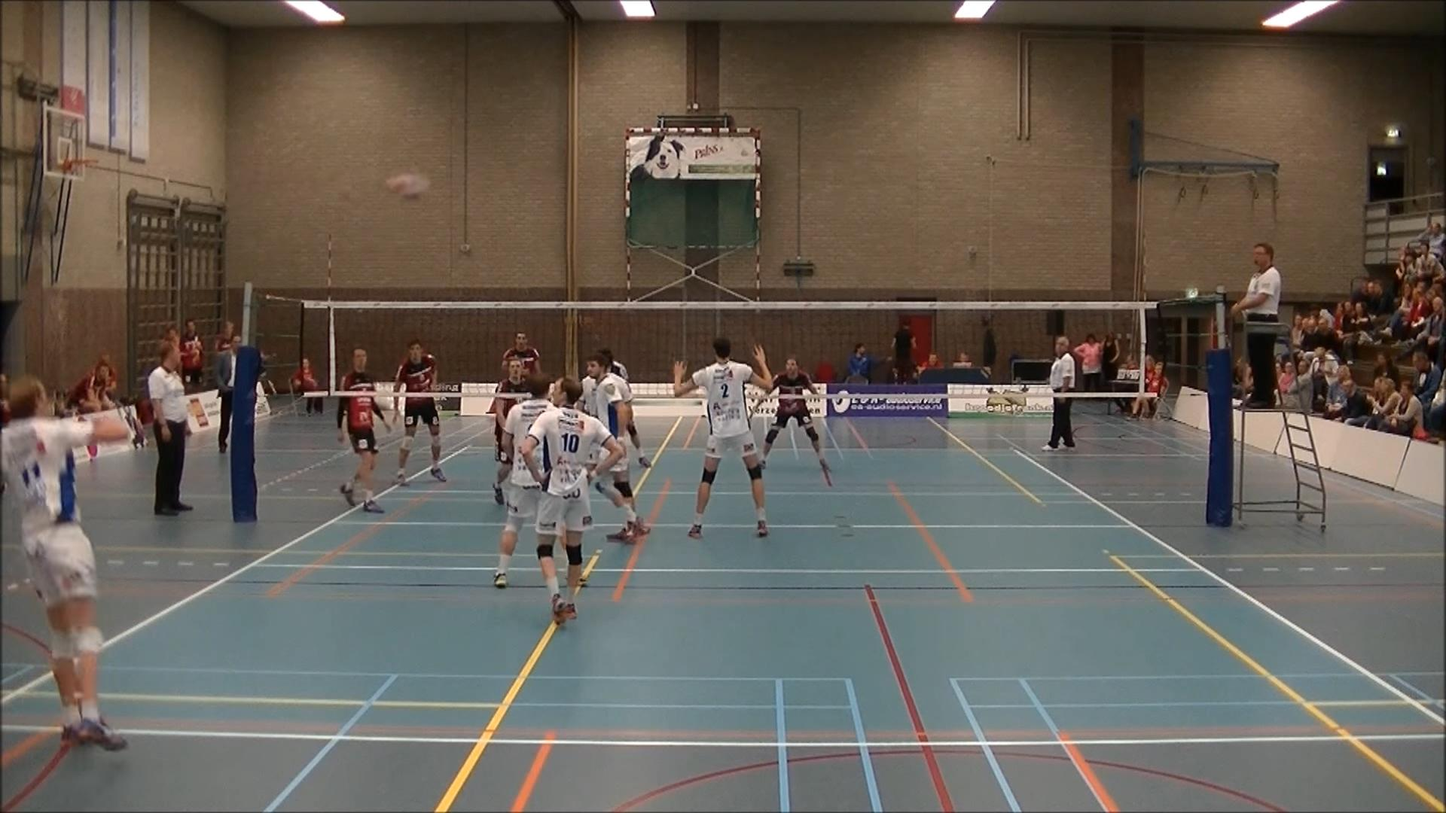Player: (519, 378, 624, 623), (673, 337, 772, 537), (493, 374, 553, 588), (337, 348, 390, 513), (762, 358, 829, 478), (491, 358, 526, 504), (395, 396, 445, 486), (597, 457, 648, 540), (502, 331, 540, 374), (627, 419, 650, 468)
Serve: (0, 376, 137, 754)
ball: (390, 168, 430, 200)
